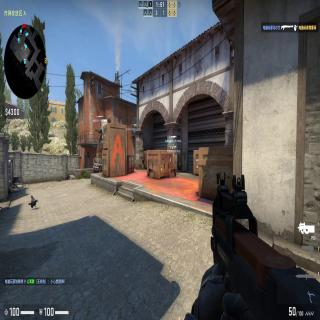CT-Body: (97, 126, 103, 142)
CT-Head: (99, 126, 101, 130)
